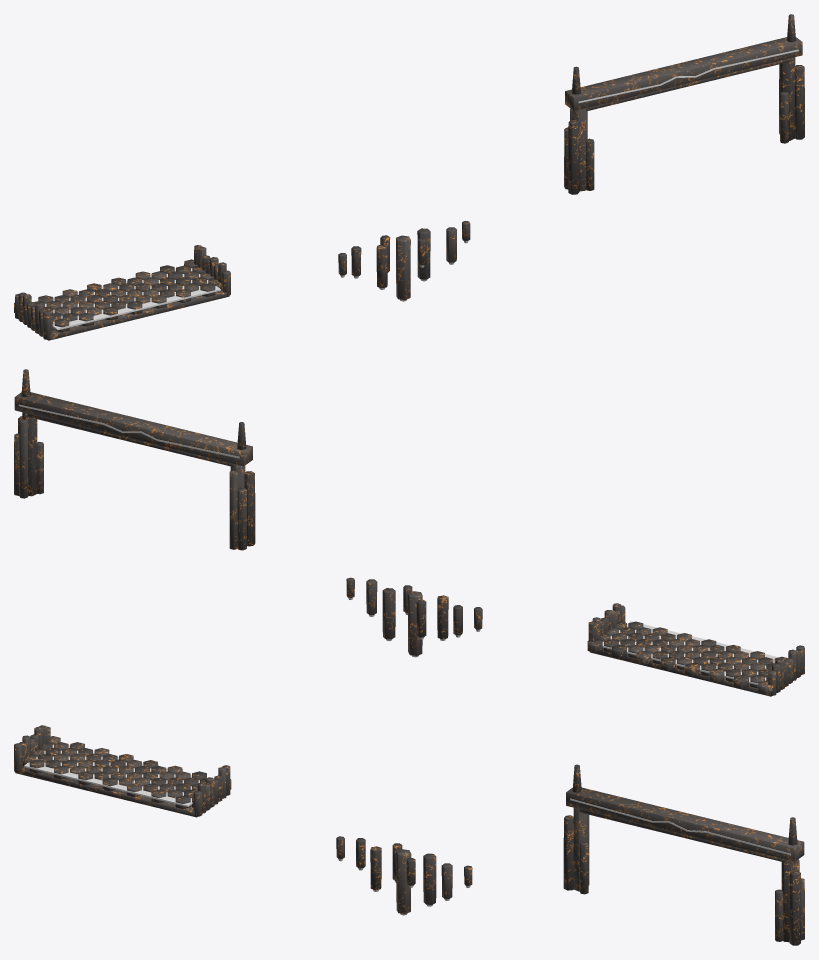
File: EmberBridge.fbx
3 renders of one model, top to bottom at view 1: azimuth 30°, elevation 25°; view 2: azimuth 150°, elevation 25°; view 3: azimuth 330°, elevation 25°, orthographic.
Visible parts, largest first — view 1: EmberGate, EmberDeck, EmberSupport, EmberDeck_Glow_ff5a14; view 2: EmberGate, EmberDeck, EmberSupport, EmberDeck_Glow_ff5a14; view 3: EmberGate, EmberDeck, EmberSupport, EmberDeck_Glow_ff5a14, EmberGate_Glow_ff5a14.
Boxes of the visible parts, x1,y1,x2,y2 form: EmberGate: [564, 14, 804, 194]; EmberDeck: [14, 245, 230, 340]; EmberSupport: [338, 221, 470, 299]; EmberDeck_Glow_ff5a14: [45, 268, 220, 330]; EmberGate: [14, 369, 255, 550]; EmberDeck: [587, 603, 804, 696]; EmberSupport: [346, 577, 482, 655]; EmberDeck_Glow_ff5a14: [602, 621, 778, 685]; EmberGate: [563, 764, 804, 945]; EmberDeck: [14, 725, 231, 817]; EmberSupport: [336, 836, 472, 913]; EmberDeck_Glow_ff5a14: [24, 744, 199, 806]; EmberGate_Glow_ff5a14: [570, 798, 790, 855].
Bounding box in the file's own units: 165 × 38.9 × 13.47.
Materials: 2 (1 with a texture image).
